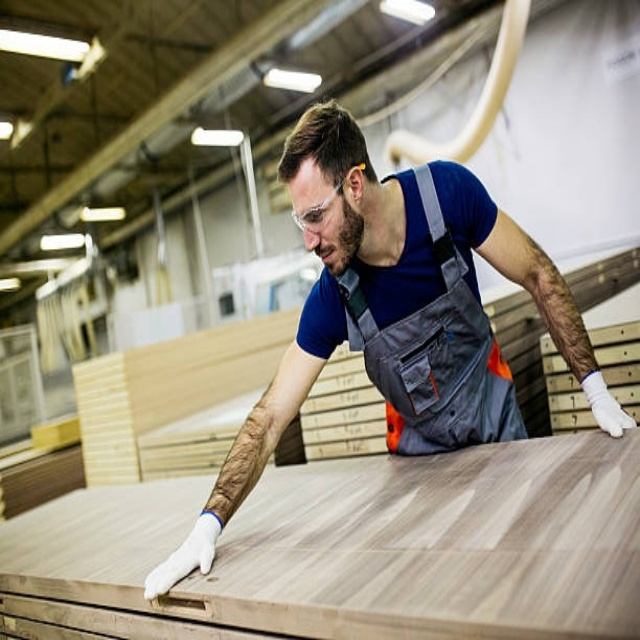Gafas: (292, 166, 358, 232)
Guantes: (143, 510, 222, 600), (579, 370, 638, 439)
Sin_mascara: (314, 245, 344, 278)
